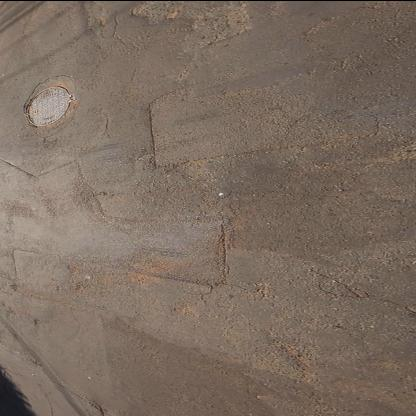manholes: (14, 76, 96, 130)
